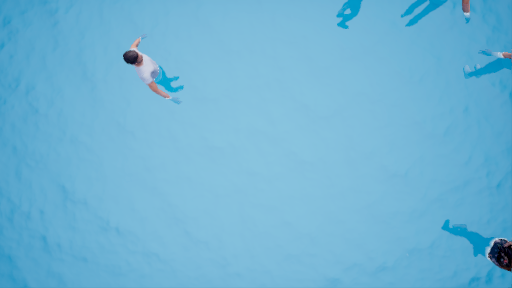person: (119, 32, 199, 107)
